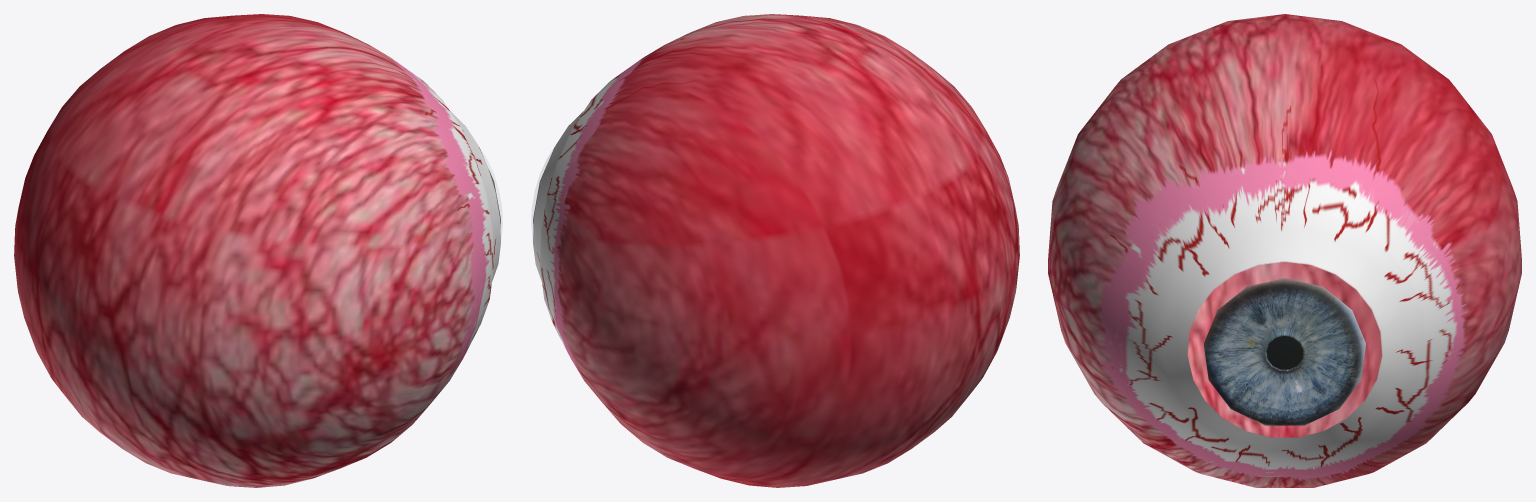
3 views of the same model, side by side, from view 1: azimuth 30°, elevation 25°; view 2: azimuth 150°, elevation 25°; view 3: azimuth 270°, elevation 25° (orthographic).
Visible parts, largest first — view 1: cornea_geo1; view 2: cornea_geo1; view 3: cornea_geo1, iris_geo1, pupil_Geo1.
Boxes of the visible parts, bbox=[...] form: cornea_geo1: bbox=[14, 14, 502, 487]; cornea_geo1: bbox=[531, 14, 1019, 487]; cornea_geo1: bbox=[1048, 14, 1521, 487]; iris_geo1: bbox=[1204, 278, 1365, 425]; pupil_Geo1: bbox=[1266, 336, 1303, 369].
Bounding box in the file's own units: 0.0213 × 0.0199 × 0.0199.
Materials: 1 (1 with a texture image).
